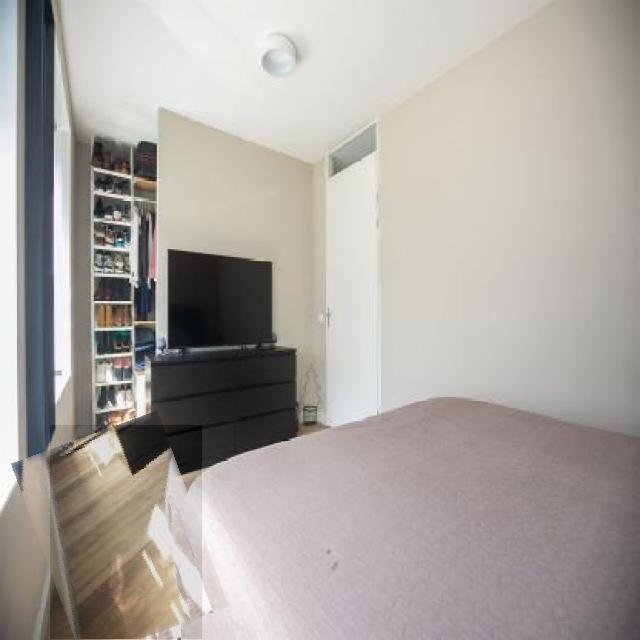floor: (50, 425, 202, 640)
